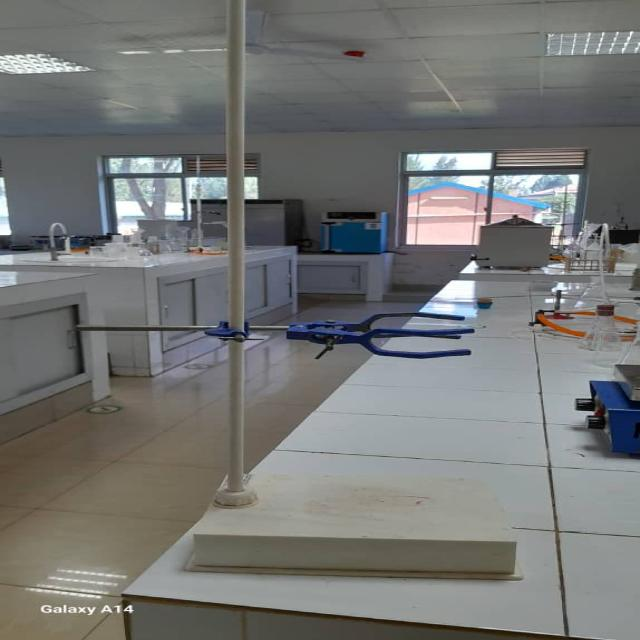Stand: (135, 6, 512, 578)
